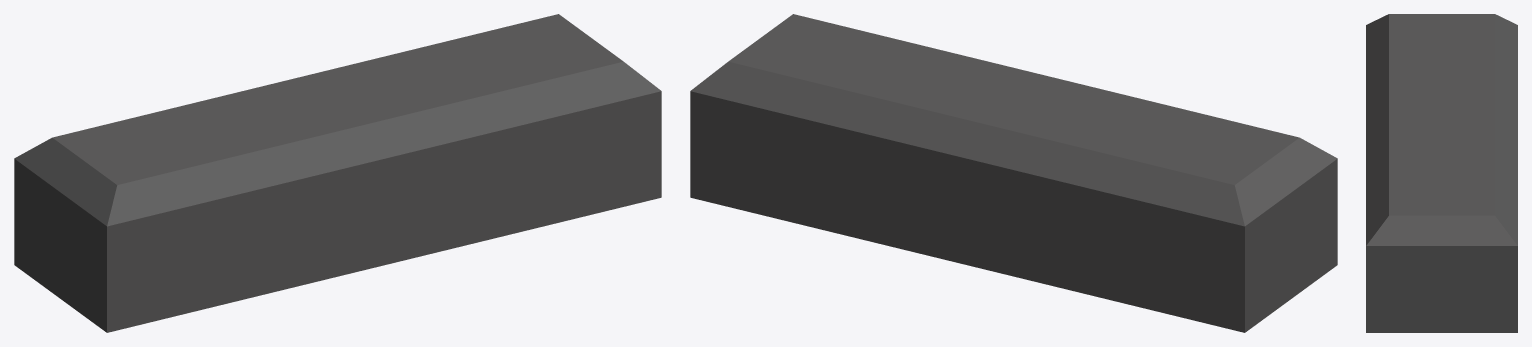
File: block.fbx
The picture shows the model from 3 angles, left to right: view 1: azimuth 30°, elevation 25°; view 2: azimuth 150°, elevation 25°; view 3: azimuth 270°, elevation 25°; orthographic projection. The views are drawn at different scales.
Parts seen in each view (by area): view 1: block; view 2: block; view 3: block.
Part boxes in pixels (x1,y1,x2,y2): block: [14, 14, 661, 332]; block: [690, 14, 1337, 332]; block: [1366, 14, 1517, 332].
Size of the model in its own units: 15.6 by 3.54 by 4.53.
Materials: 1 (1 with a texture image).
